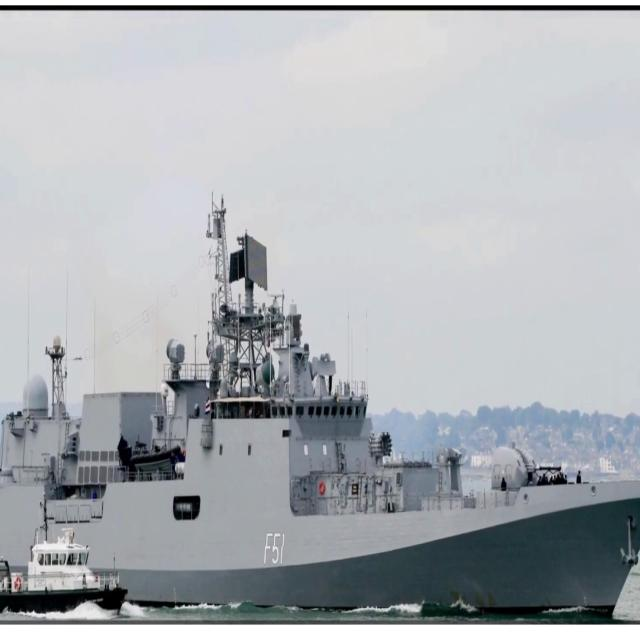OCR: (262, 523, 296, 575)
